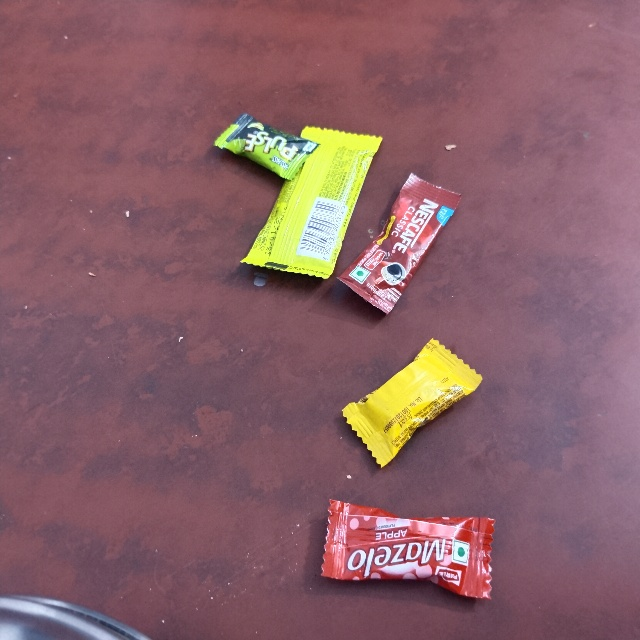Alpenlibe Creamfills: (331, 425, 474, 496)
Mazelo: (329, 495, 504, 586)
Nescafe Coffee: (413, 165, 476, 308)
Orbit: (298, 112, 384, 277)
Pulse: (232, 102, 334, 156)
